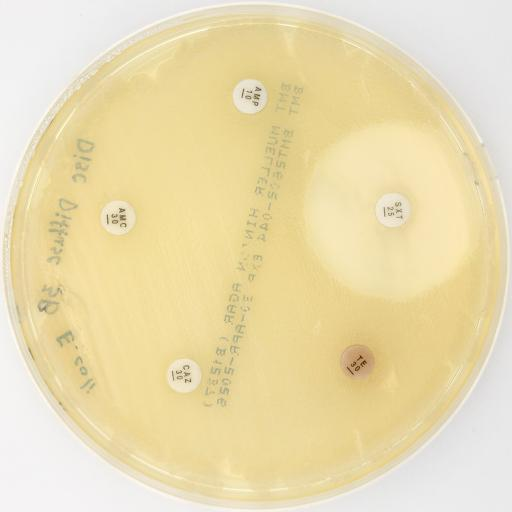disc: (232, 78, 268, 114), (100, 199, 136, 235), (375, 192, 410, 228), (341, 344, 375, 380), (166, 358, 200, 392)
